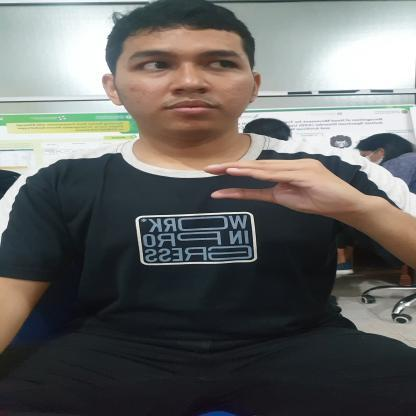Pagi: (202, 154, 367, 218)
